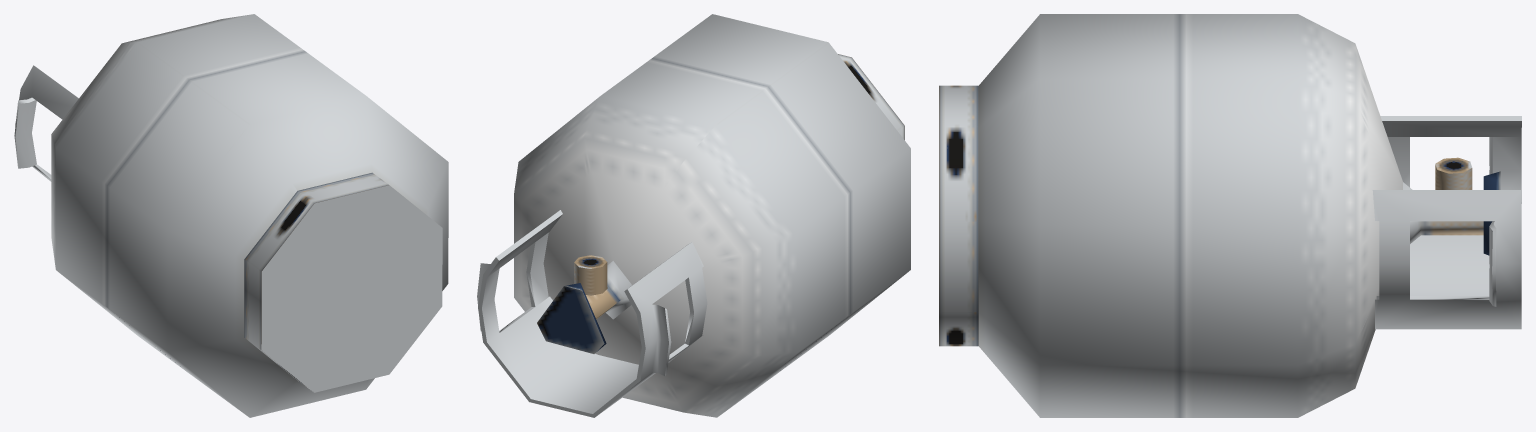
Rendered from PropaneTank_Hand.fbx.
3 renders of one model, left to right at view 1: azimuth 30°, elevation 25°; view 2: azimuth 150°, elevation 25°; view 3: azimuth 270°, elevation 25°, orthographic. The views are drawn at different scales.
Parts seen in each view (by area): view 1: PropaneTank; view 2: PropaneTank; view 3: PropaneTank.
Part boxes in pixels (x1,y1,x2,y2): PropaneTank: (14,14,448,417); PropaneTank: (477,14,910,417); PropaneTank: (939,14,1521,417).
Bounding box in the file's own units: 0.2153 × 0.2153 × 0.3358.
